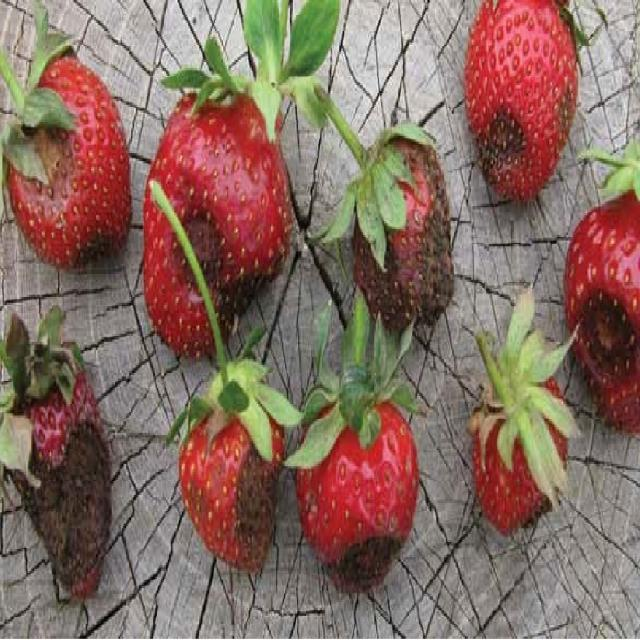Mancha negra Antracnosis: (138, 92, 292, 354), (10, 334, 131, 608), (462, 0, 588, 217), (8, 59, 128, 283), (301, 377, 423, 592), (340, 120, 462, 322), (174, 372, 286, 572), (561, 182, 640, 437), (472, 355, 576, 536)
